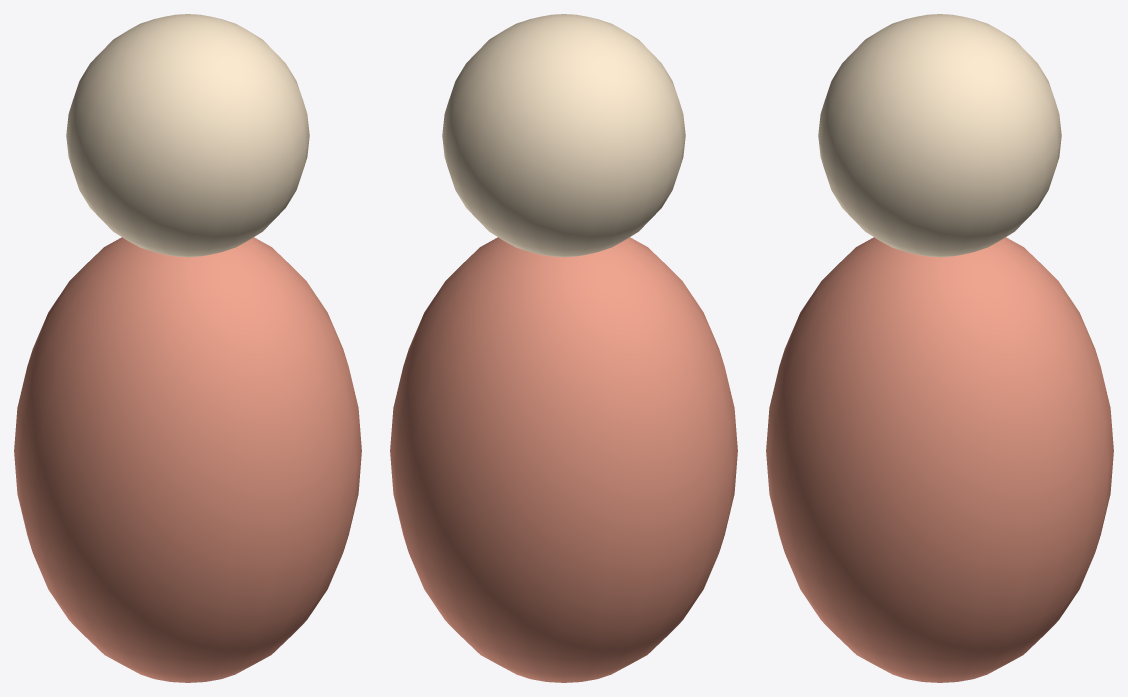
Rendered from style_figure.glb.
3 renders of one model, left to right at view 1: azimuth 30°, elevation 25°; view 2: azimuth 150°, elevation 25°; view 3: azimuth 270°, elevation 25°, orthographic.
Parts seen in each view (by area): view 1: style_figure; view 2: style_figure; view 3: style_figure.
Part boxes in pixels (x1,y1,x2,y2): style_figure: [14, 14, 361, 682]; style_figure: [390, 14, 737, 682]; style_figure: [766, 14, 1113, 682].
Size of the model in its own units: 1 by 2.05 by 1.
